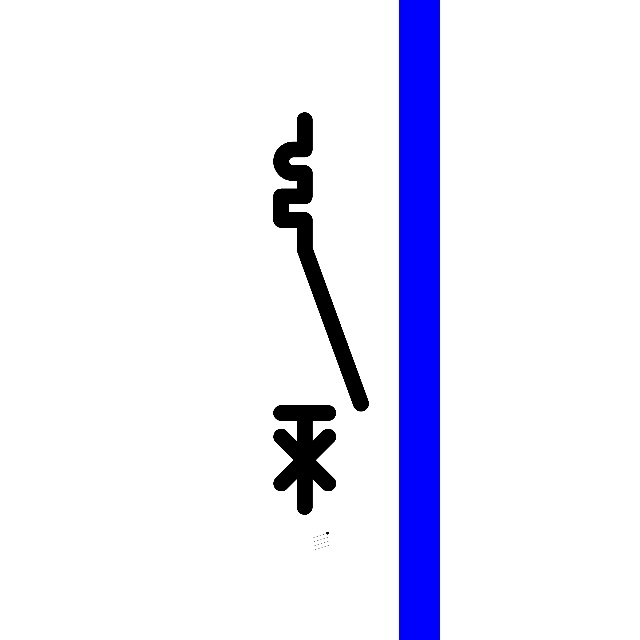interruptor_termomagnetico: (271, 110, 370, 517)
